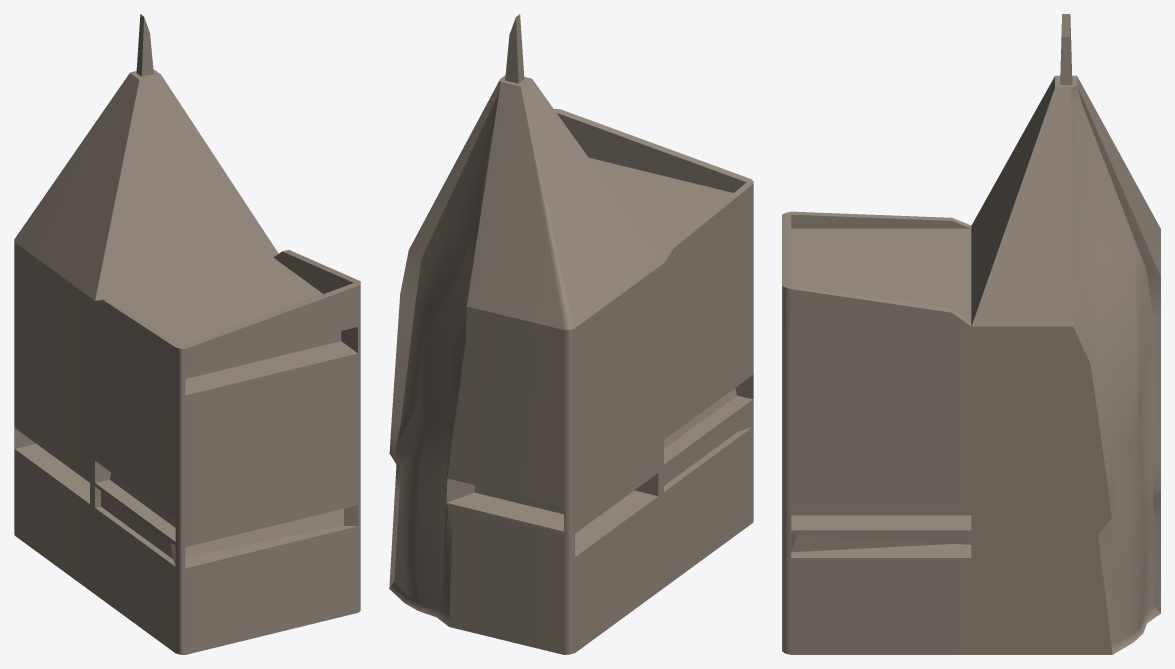
The model's file is building3.fbx.
The picture shows the model from 3 angles, left to right: view 1: azimuth 30°, elevation 25°; view 2: azimuth 150°, elevation 25°; view 3: azimuth 270°, elevation 25°; orthographic projection. The views are drawn at different scales.
Parts seen in each view (by area): view 1: building2; view 2: building2; view 3: building2.
Boxes of the visible parts, box(x1,y1,x2,y2) form: building2: box(14, 14, 360, 654); building2: box(389, 14, 753, 654); building2: box(782, 14, 1160, 654).
Size of the model in its own units: 2061 by 5600 by 3264.
